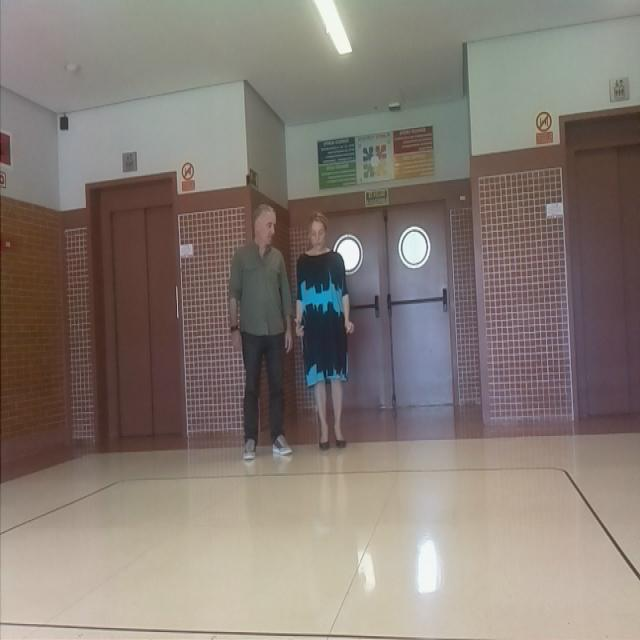person: (226, 204, 292, 463), (295, 215, 357, 458)
